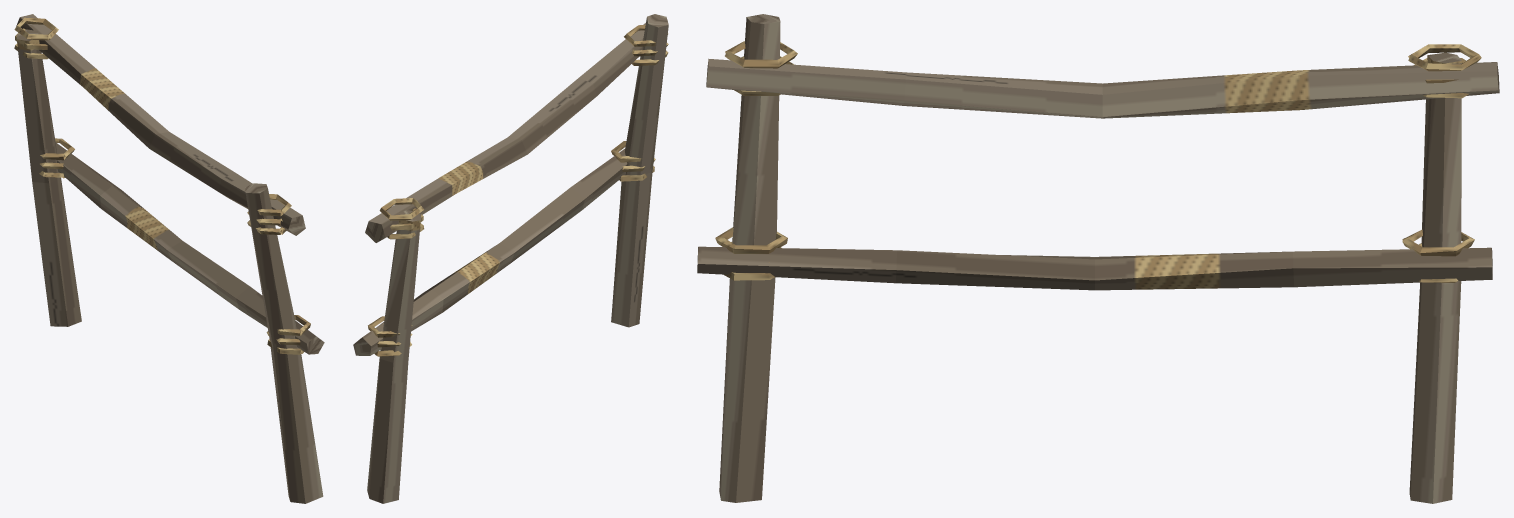
Rendered from camp_fence_a.fbx.
The picture shows the model from 3 angles, left to right: view 1: azimuth 30°, elevation 25°; view 2: azimuth 150°, elevation 25°; view 3: azimuth 270°, elevation 25°; orthographic projection. The views are drawn at different scales.
Visible parts, largest first — view 1: camp_fence_a; view 2: camp_fence_a; view 3: camp_fence_a.
Boxes of the visible parts, x1,y1,x2,y2 form: camp_fence_a: [14, 14, 324, 503]; camp_fence_a: [353, 14, 668, 503]; camp_fence_a: [697, 14, 1499, 503].
Bounding box in the file's own units: 28.86 × 130 × 209.
